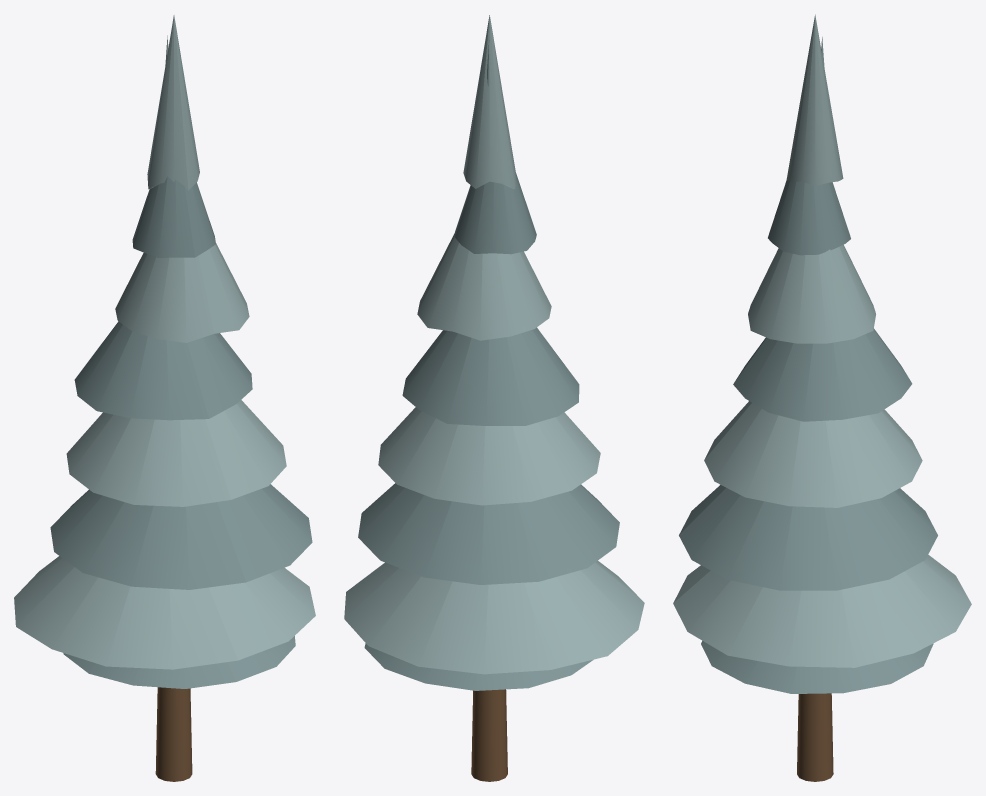
Rendered from ezustfenyo-nyirt.glb.
The picture shows the model from 3 angles, left to right: view 1: azimuth 30°, elevation 25°; view 2: azimuth 150°, elevation 25°; view 3: azimuth 270°, elevation 25°; orthographic projection.
Parts seen in each view (by area): view 1: orv-3, orv-4, orv-5, orv-6, orv-7, orv-8, csucs, orv-2, torzs; view 2: orv-3, orv-4, orv-5, orv-6, orv-7, csucs, orv-8, orv-2, torzs; view 3: orv-3, orv-4, orv-5, orv-6, orv-7, orv-2, csucs, orv-8, torzs.
Part boxes in pixels (left/top/right/bottom): orv-3: left=14, top=556, right=315, bottom=669; orv-4: left=50, top=484, right=312, bottom=589; orv-5: left=66, top=400, right=286, bottom=506; orv-6: left=74, top=321, right=252, bottom=420; orv-7: left=115, top=243, right=249, bottom=342; orv-8: left=132, top=176, right=215, bottom=257; csucs: left=147, top=15, right=199, bottom=190; orv-2: left=63, top=636, right=295, bottom=688; torzs: left=155, top=687, right=192, bottom=781; orv-3: left=344, top=561, right=644, bottom=674; orv-4: left=358, top=483, right=619, bottom=584; orv-5: left=378, top=407, right=600, bottom=505; orv-6: left=402, top=327, right=579, bottom=425; orv-7: left=417, top=233, right=551, bottom=340; csucs: left=463, top=15, right=515, bottom=188; orv-8: left=455, top=173, right=536, bottom=254; orv-2: left=364, top=643, right=593, bottom=690; torzs: left=471, top=689, right=507, bottom=781; orv-3: left=673, top=554, right=971, bottom=667; orv-4: left=679, top=485, right=937, bottom=590; orv-5: left=704, top=401, right=922, bottom=507; orv-6: left=733, top=328, right=912, bottom=421; orv-7: left=748, top=245, right=875, bottom=343; orv-2: left=701, top=641, right=933, bottom=693; csucs: left=786, top=14, right=843, bottom=185; orv-8: left=768, top=180, right=850, bottom=255; torzs: left=797, top=693, right=833, bottom=781.
Size of the model in its own units: 4.13 by 11.45 by 4.08.
